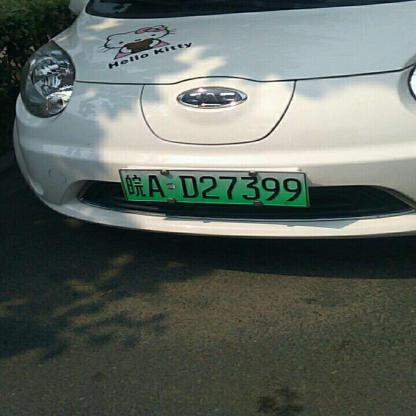lp: (119, 168, 306, 206)
